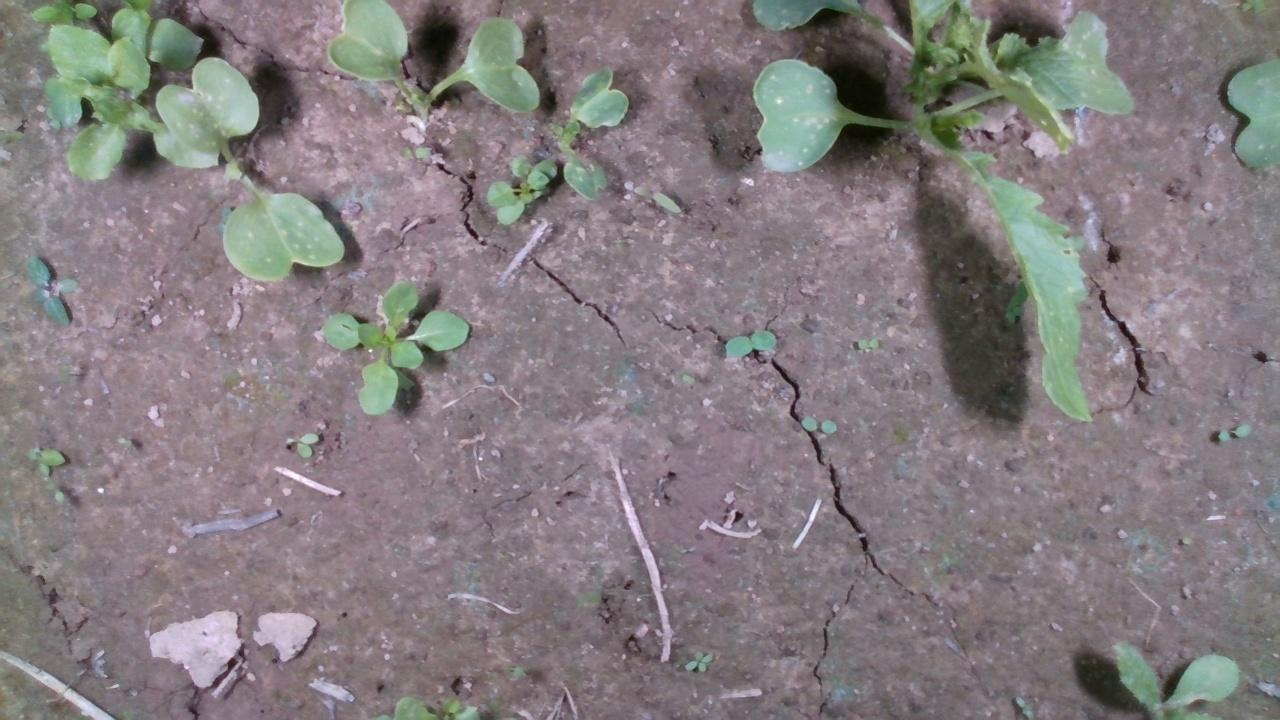weed: (718, 326, 777, 362), (631, 184, 682, 213), (280, 427, 322, 459), (26, 444, 66, 476), (800, 413, 838, 434), (682, 648, 715, 672), (1213, 423, 1252, 442), (399, 143, 436, 160), (852, 336, 882, 350), (49, 487, 66, 507)
